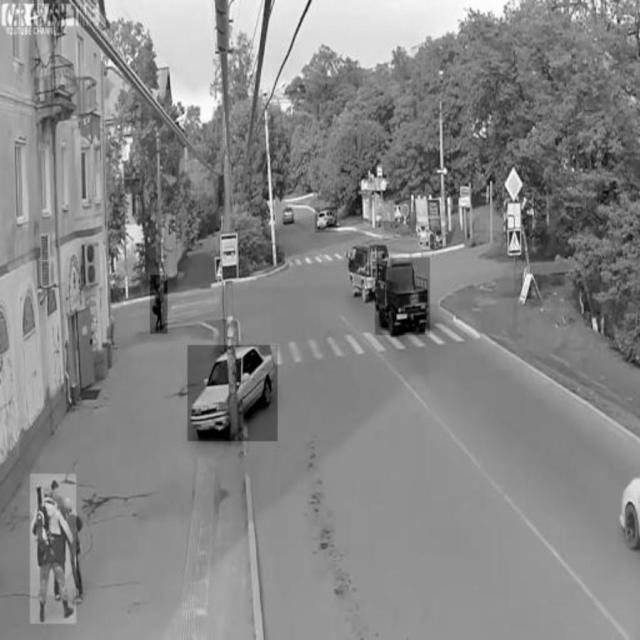accident: (188, 345, 278, 441)
person: (31, 474, 77, 624), (150, 275, 167, 333)
vehicle: (375, 258, 430, 335), (345, 239, 387, 303), (315, 207, 339, 232), (280, 204, 298, 228)
